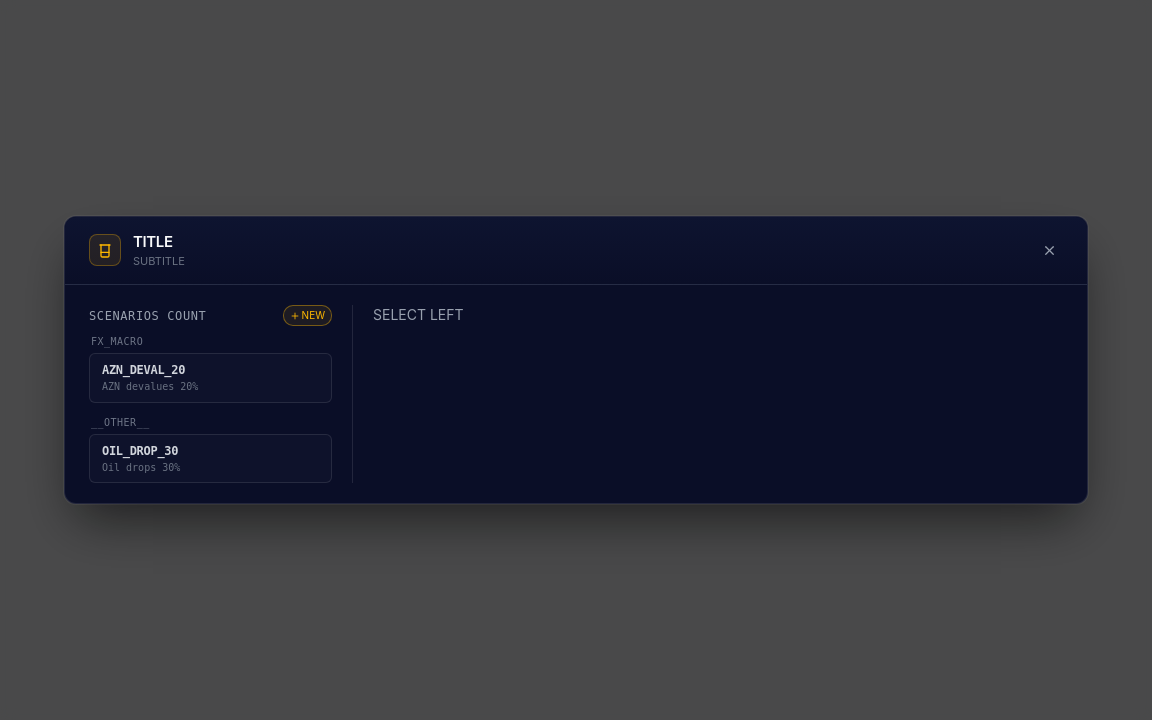
Test: ScenarioPanel (Phase C4 v1) › simulate server error shows error message
Click the button with test id "scenario-row-AZN_DEVAL_20" at (210, 378), box [89, 353, 332, 402]
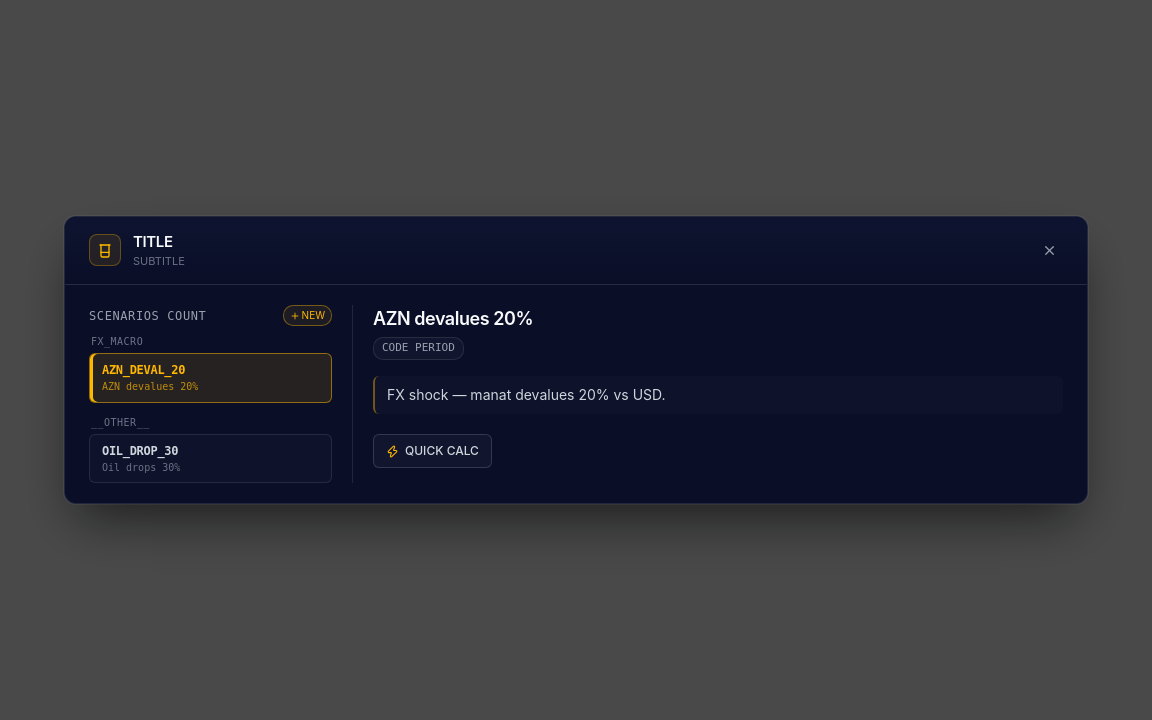
Click the button with test id "scenario-simulate-button" at (432, 451), box [373, 434, 492, 468]
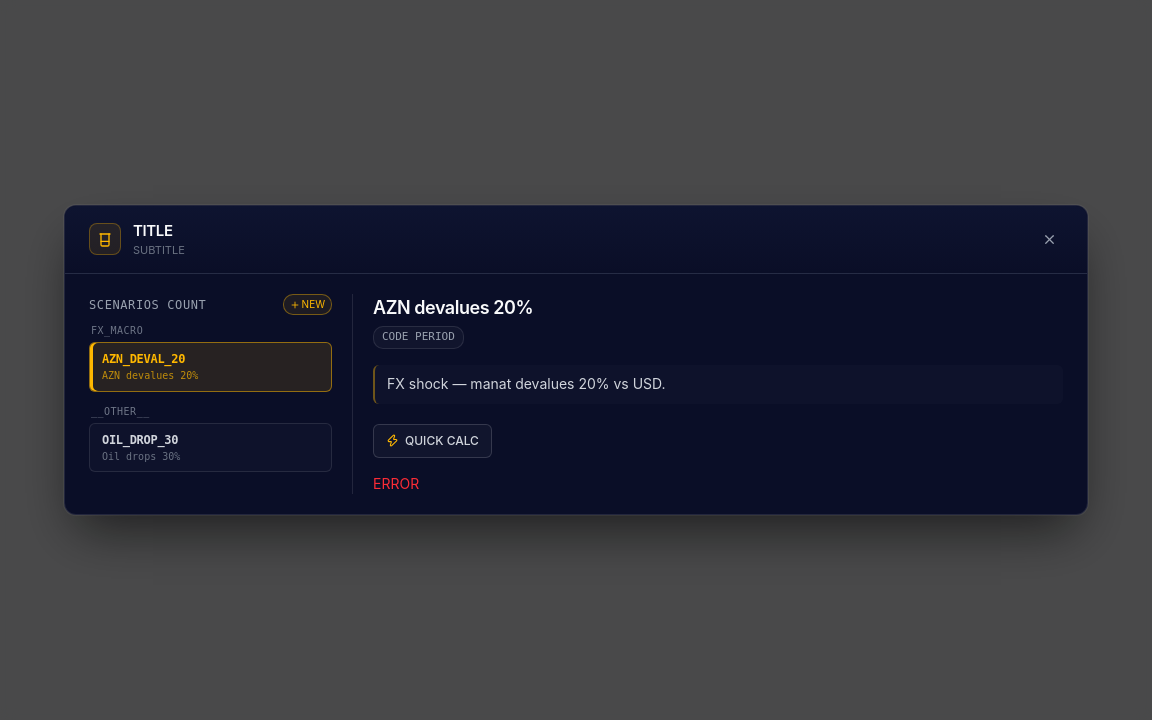
Result: the text "ERROR" is shown at [373, 475, 419, 492]
